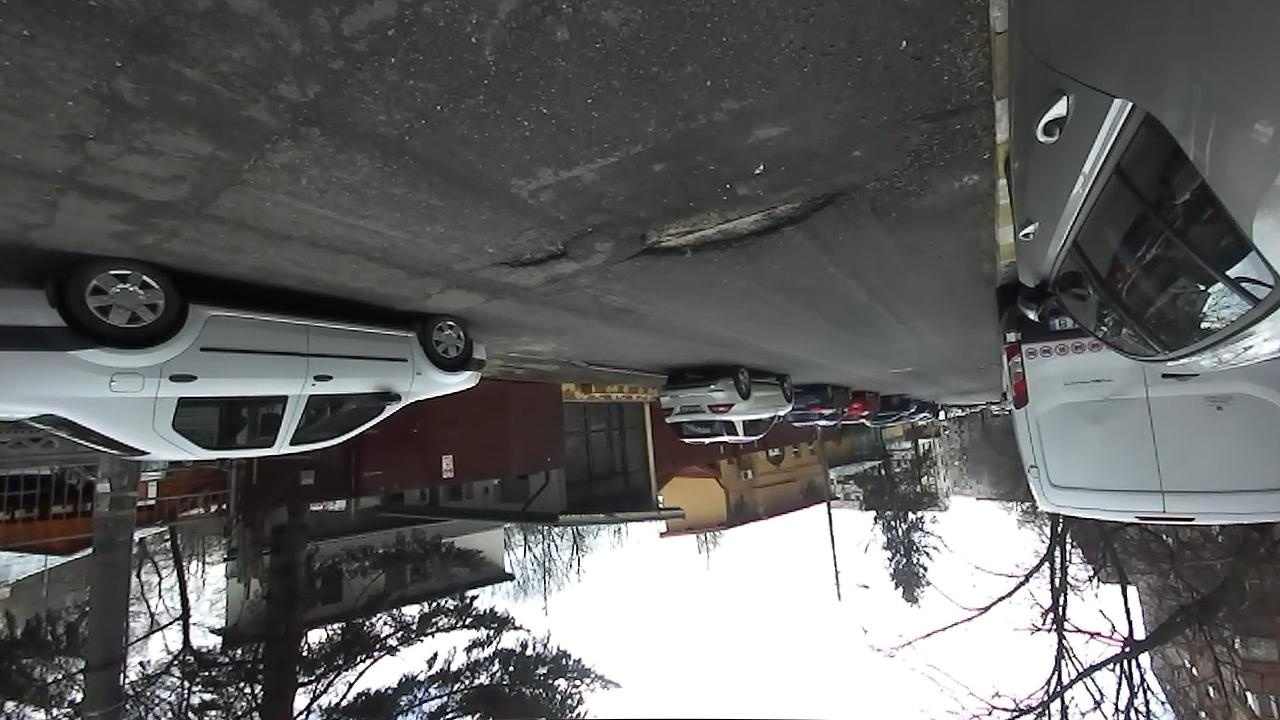pothole: (628, 183, 856, 266), (491, 230, 587, 273)
